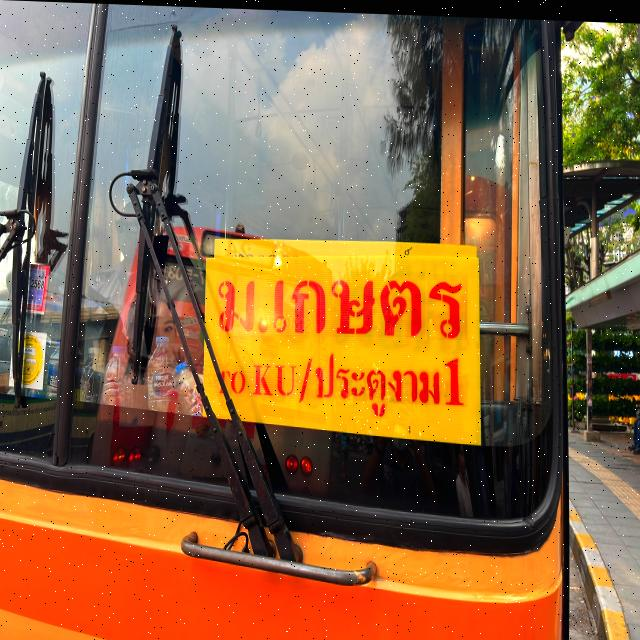BMTA-bus: (0, 0, 575, 640)
Destination Sign: (204, 246, 482, 441)
